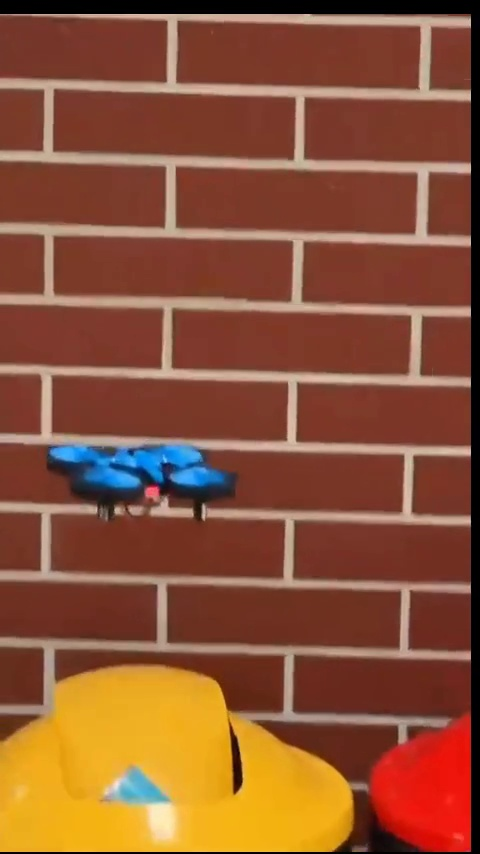drone: (47, 438, 247, 528)
